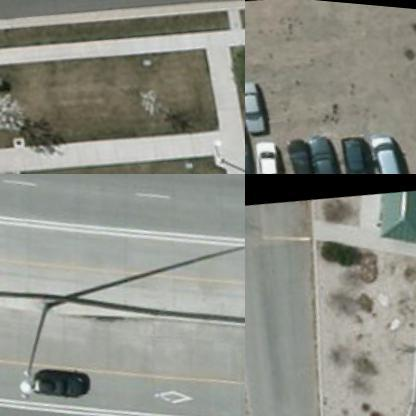car: (37, 354, 91, 400), (371, 119, 414, 173), (245, 67, 277, 132), (308, 125, 348, 173), (343, 126, 379, 173), (252, 131, 289, 173), (245, 134, 264, 173)
